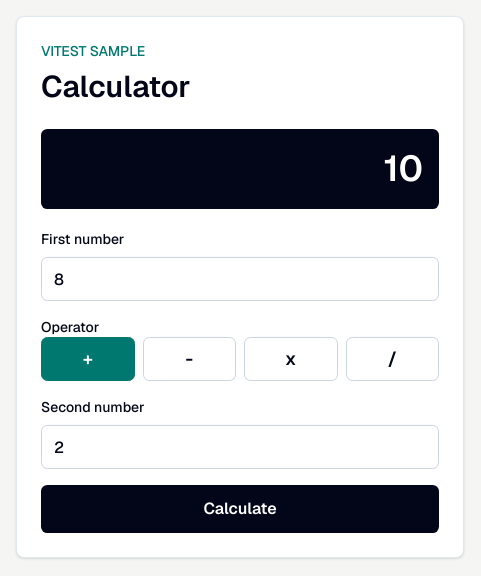
Test: Calculator › calculates with user input
Replace the text in the number field with test id "calculator-first-number" with "12" at (240, 279), box [41,257,439,301]
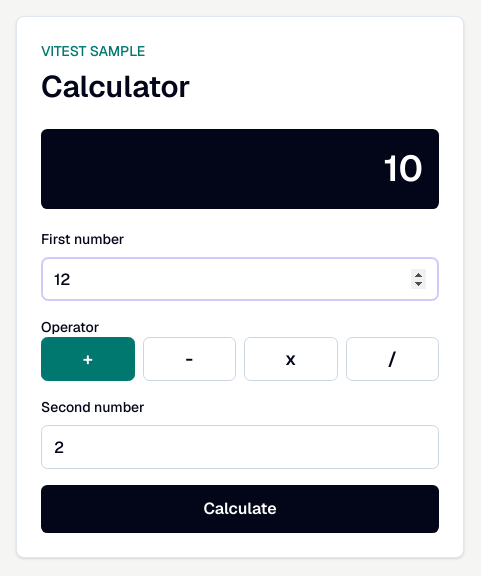
Click the button with test id "calculator-operator-multiply".
click(291, 359)  # box [244,337,338,381]
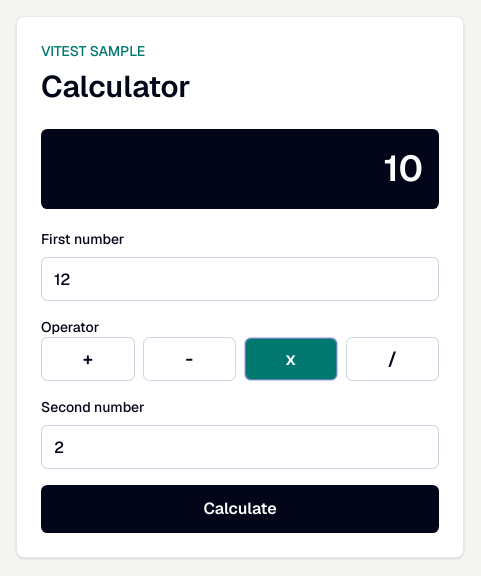
Replace the text in the number field with test id "calculator-second-number" with "3" at (240, 447), box [41,425,439,469]
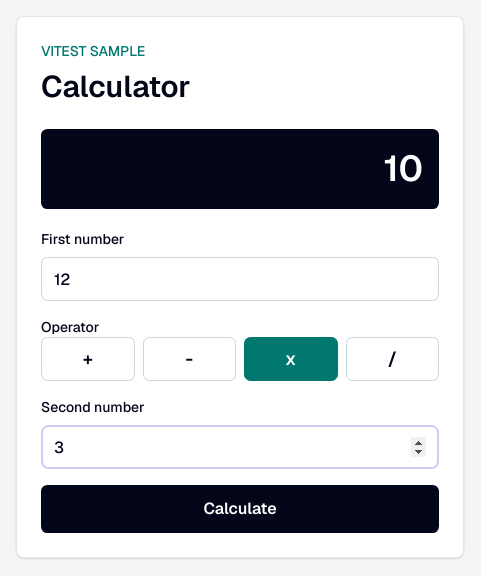
Click the button with test id "calculator-submit".
click(240, 509)  # box [41,485,439,533]
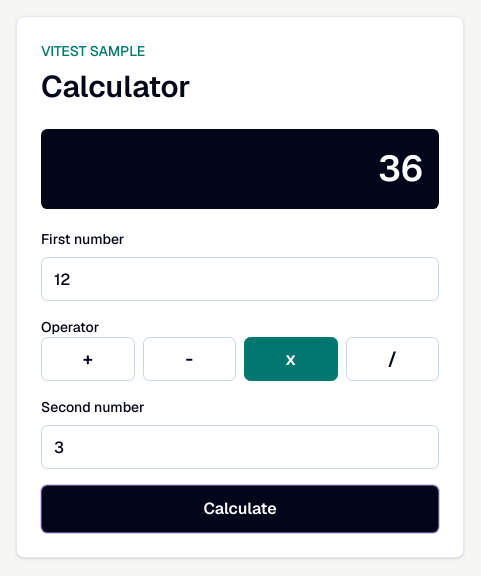
expect the text with test id "calculator-result" reads "36": met, box [378,145,423,192]
